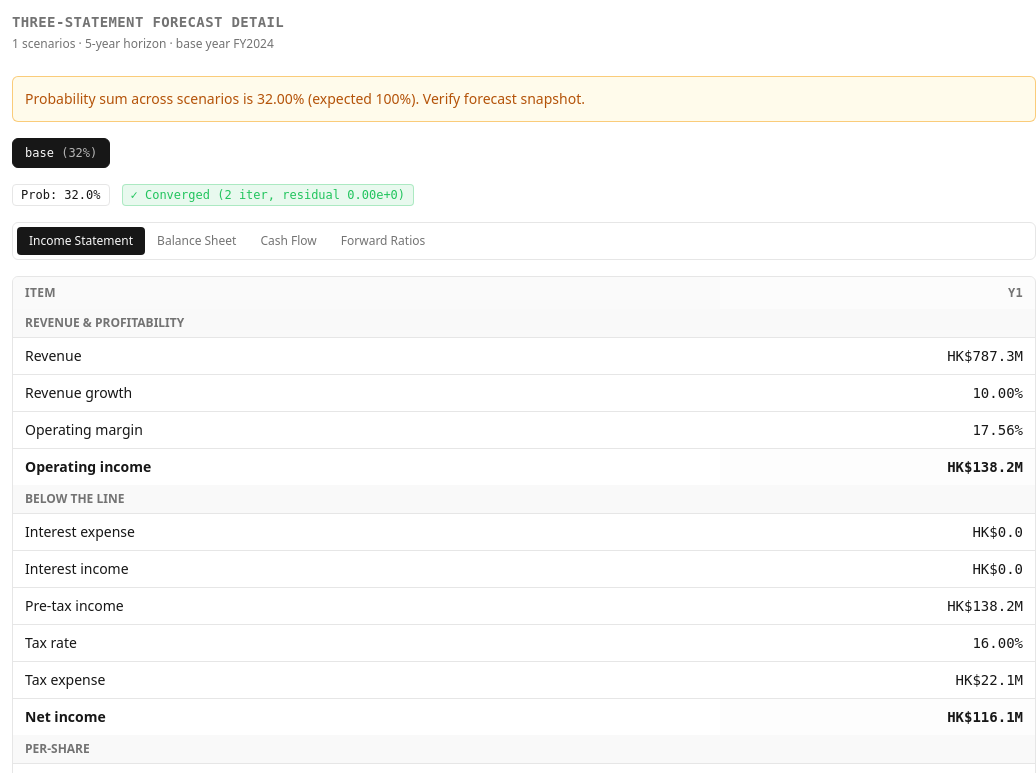
Test: ForecastDetail (Sprint 1B.2) › switches to Balance Sheet sub-tab
Step 1. Click the button "Balance Sheet" → [197, 241], box [145, 227, 248, 255]
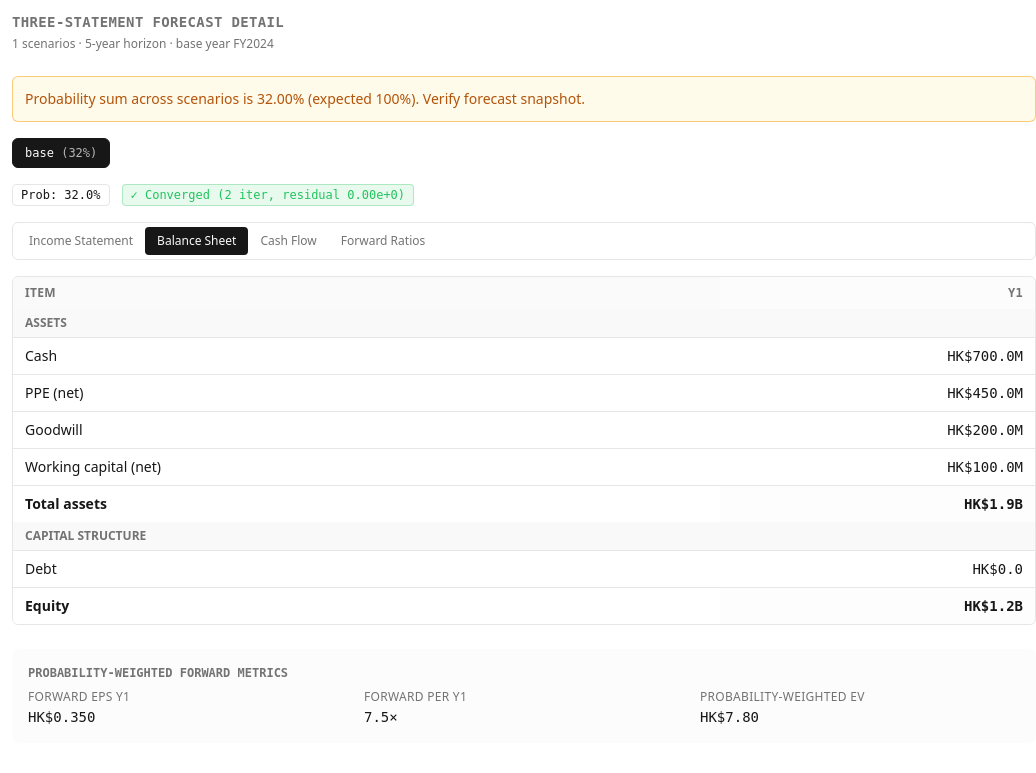
expect the text "Total assets" is shown: met, box [13, 486, 720, 522]
expect the text "Capital structure" is shown: met, box [13, 522, 1035, 550]
